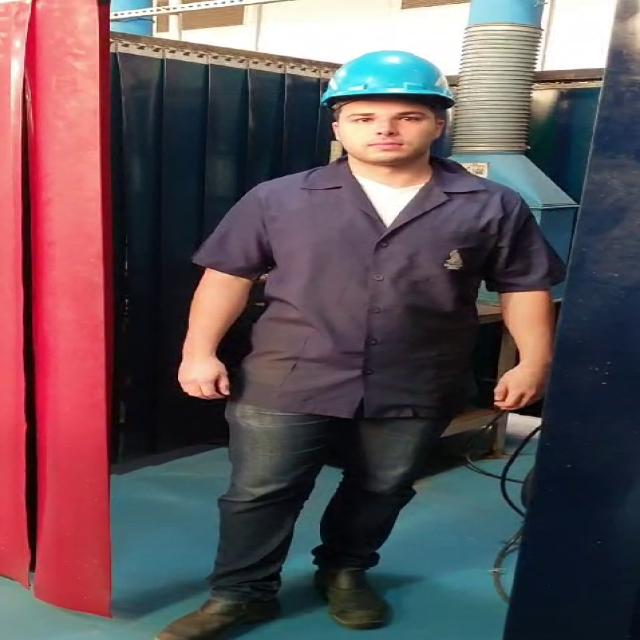sem_oculos: (316, 105, 455, 134)
